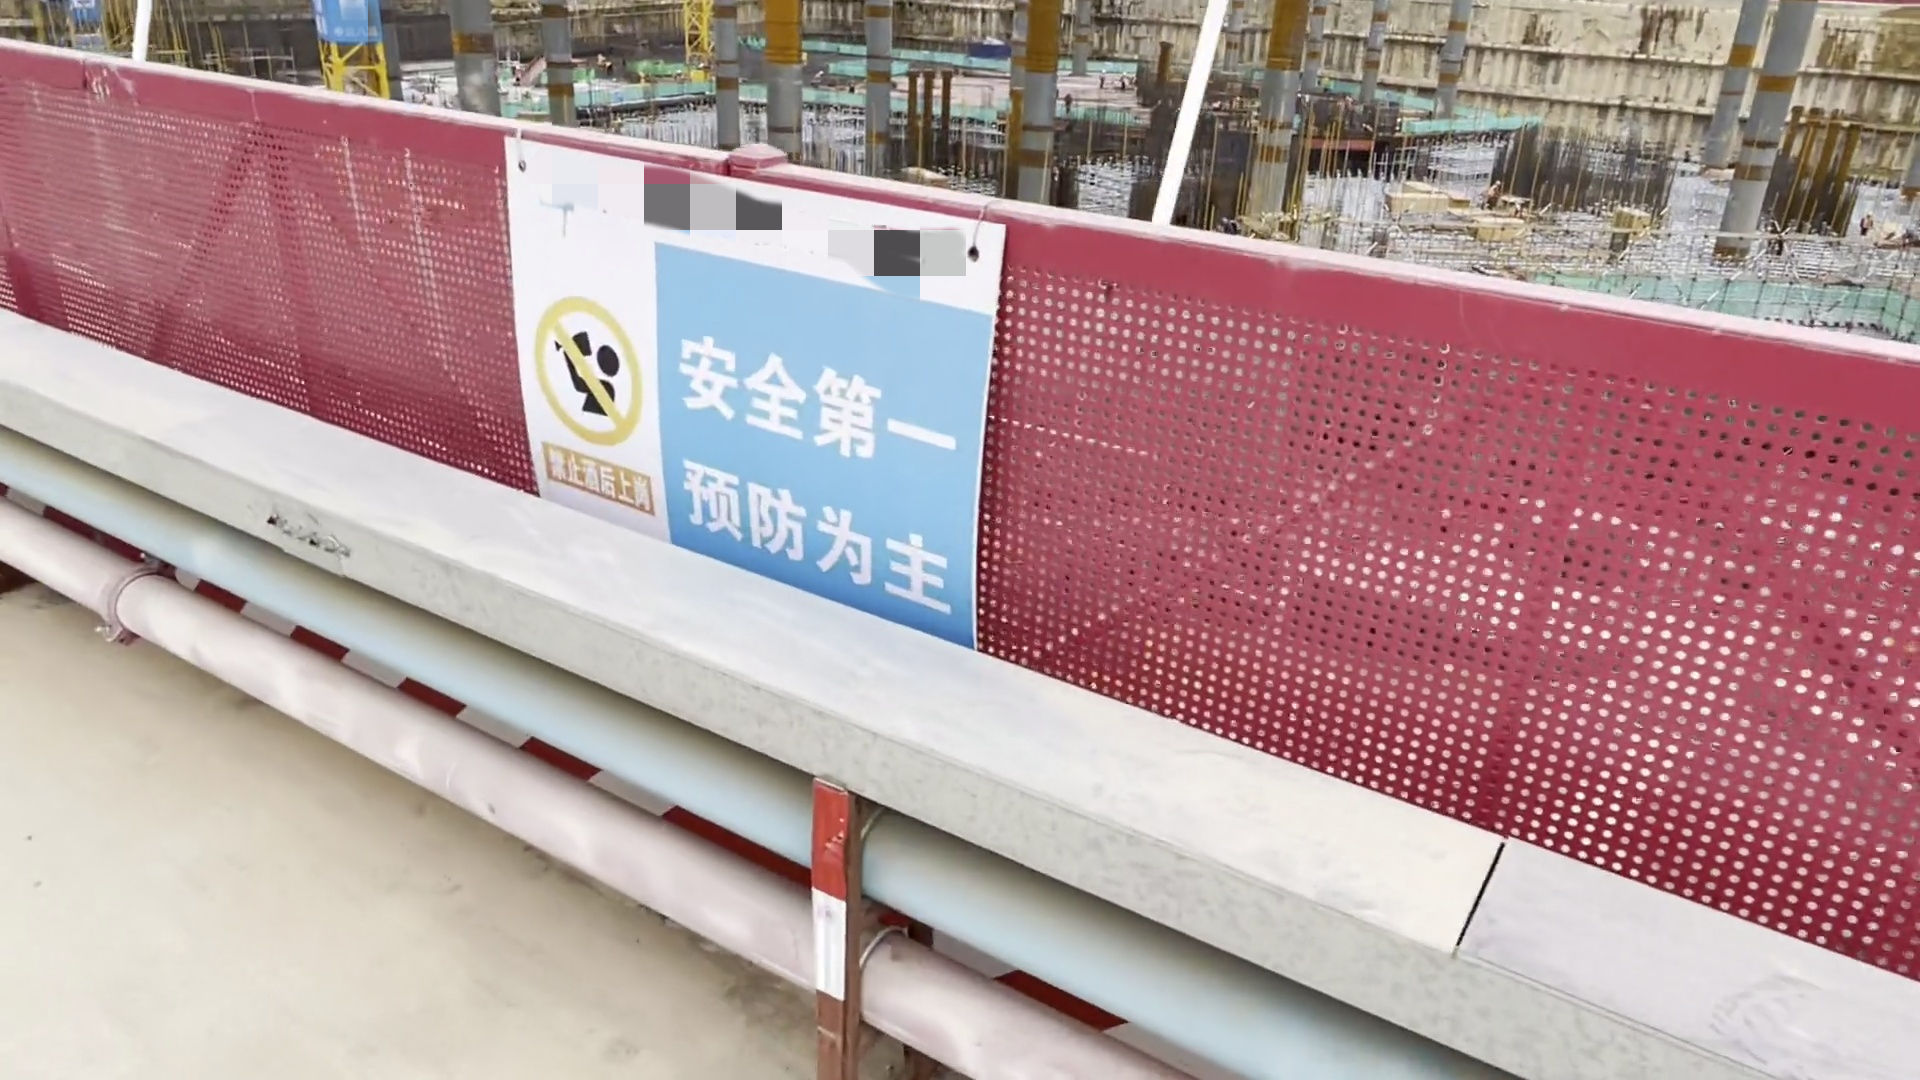slogan: (473, 108, 1058, 650)
